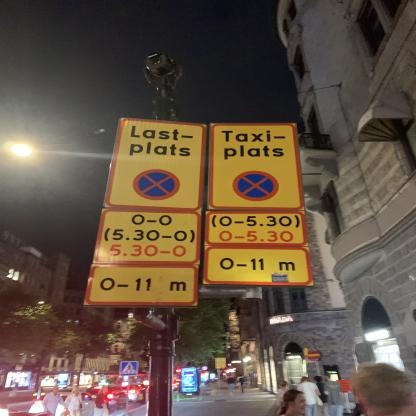lastplats: (102, 116, 209, 208)
